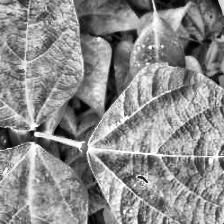Bean Rust: (94, 60, 223, 224), (0, 0, 83, 131), (0, 144, 86, 223)
